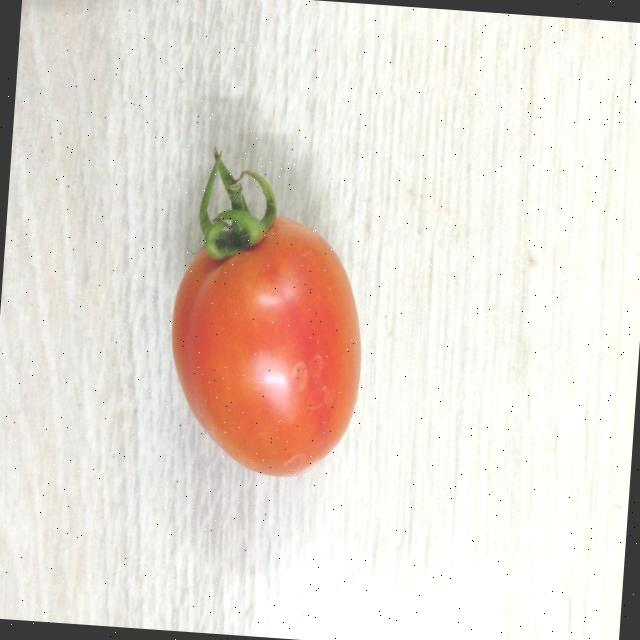Tomato: (159, 148, 376, 476)
